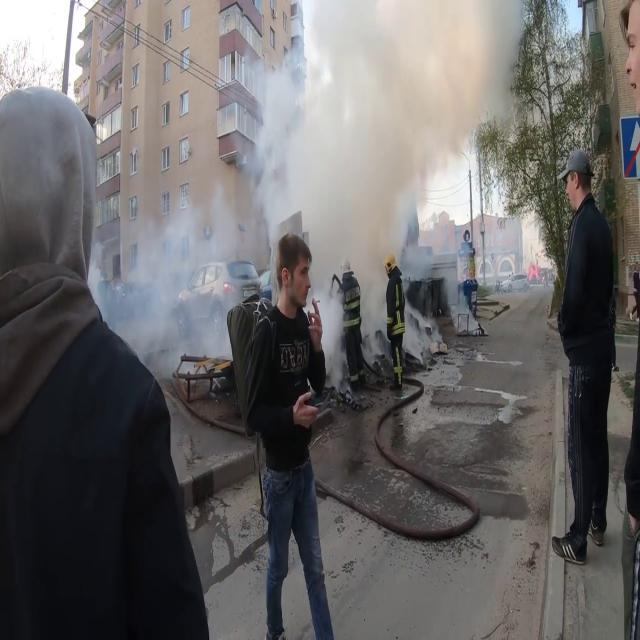Smoke: (244, 0, 526, 284), (124, 170, 242, 368)
